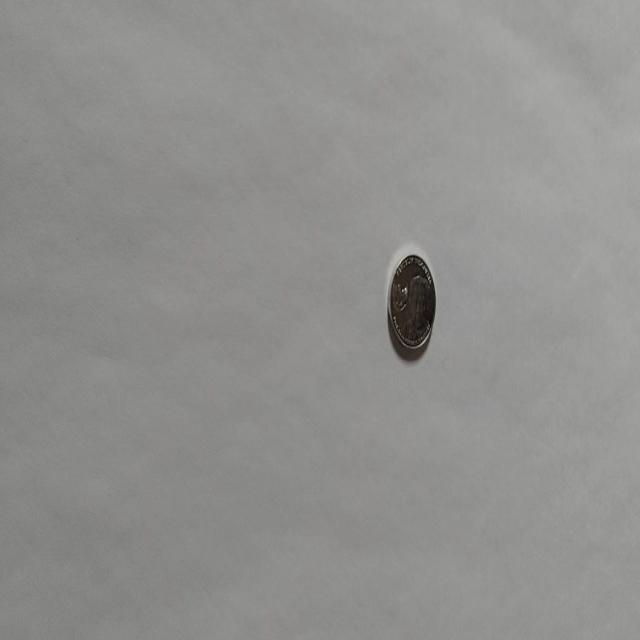seratus rupiah: (386, 252, 436, 352)
